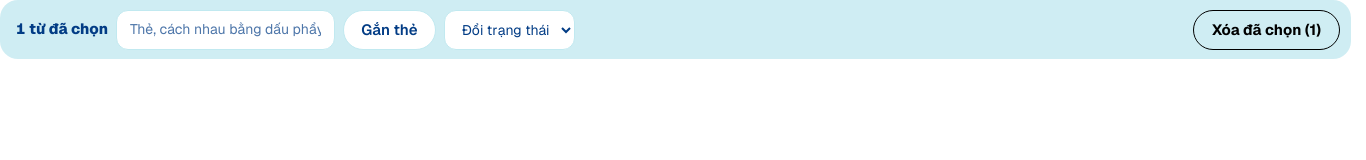
Scenario: BulkActionBar status › rests on its prompt and applies a status as soon as it is chosen
Expected: the text "Không đưa vào ôn nữa. Đổi trạng thái để ôn lại." is not shown
Select "Đã biết" in the dropdown named "Đổi trạng thái các từ đã chọn" at (510, 30), box 444,10 -> 575,50
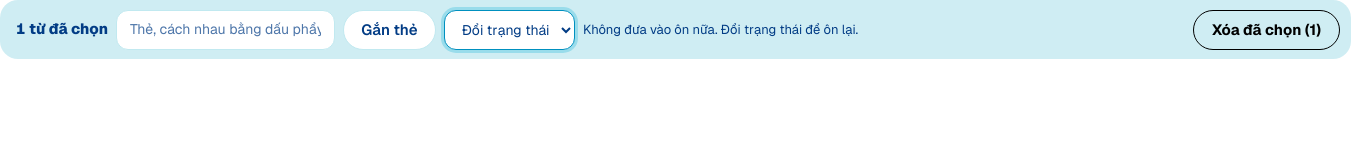
Now the text "Không đưa vào ôn nữa. Đổi trạng thái để ôn lại." is shown, box 583,20 -> 858,39
Select "Đang học" in the dropdown named "Đổi trạng thái các từ đã chọn" at (510, 30), box 444,10 -> 575,50
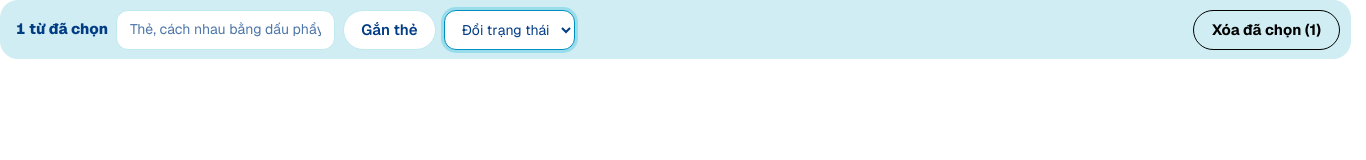
Now the text "Không đưa vào ôn nữa. Đổi trạng thái để ôn lại." is gone
